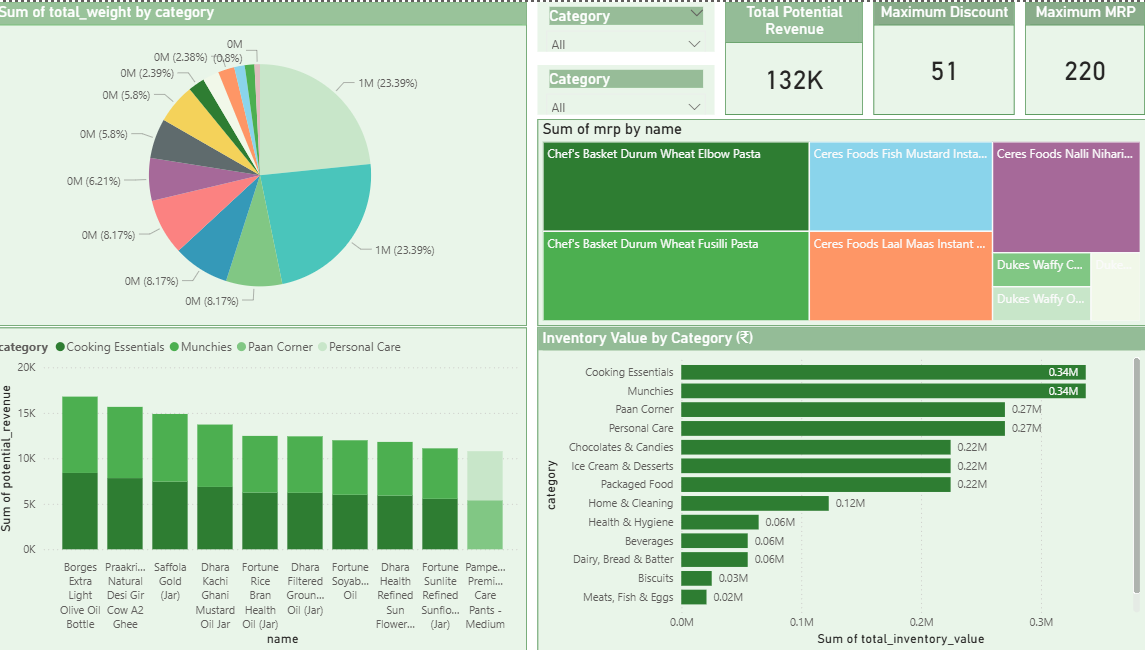

What the dashboard file says about the page in this screenshot:
{"tool":"powerbi","page":{"name":"Page 1","canvas":[1280,720],"ordinal":0},"visuals":[{"type":"clusteredBarChart","title":"Inventory Value by Category (₹)","fields":{"Y":["Sum(category_inventory_value.total_inventory_value)"],"Category":["category_inventory_value.category"]},"box":[604.6,361.1,675.8,359.5],"z":0},{"type":"treemap","fields":{"Group":["top10_discounts.name"],"Values":["Sum(top10_discounts.mrp)"]},"box":[604.6,129.2,675.8,230.3],"z":1000},{"type":"columnChart","fields":{"Category":["top20_potential_revenue_skus.name"],"Y":["Sum(top20_potential_revenue_skus.potential_revenue)"],"Series":["top20_potential_revenue_skus.category"]},"box":[0,361.1,593,359.5],"z":2000},{"type":"pieChart","fields":{"Y":["Sum(total_weight_by_category.total_weight)"],"Category":["total_weight_by_category.category"]},"box":[0,0,593.3,360],"z":3000},{"type":"card","title":"Total Potential Revenue","fields":{"Values":["category_inventory_value.Total Potential Revenue"]},"box":[813.3,0,153.3,125],"z":5000},{"type":"card","title":"Maximum Discount","fields":{"Values":["category_inventory_value.Maximum Discount"]},"box":[978.3,0,156.7,125],"z":6000},{"type":"card","title":"Maximum MRP","fields":{"Values":["category_inventory_value.Maximum MRP"]},"box":[1146.7,0,133.3,125],"z":7000},{"type":"slicer","fields":{"Values":["category_inventory_value.category"]},"box":[605,0,196.7,55],"z":7001},{"type":"slicer","fields":{"Values":["top20_potential_revenue_skus.name"]},"box":[605,70,196.7,55],"z":7002}]}

Visuals, with their boxes in screenshot pixels (x1, y1, x2, y2), scaled from the page's 1280x720 canvas onto the 1145x650 screenshot:
"Inventory Value by Category (₹)" clusteredBarChart: <region>541, 326, 1144, 649</region>
treemap - top10_discounts.name x Sum(top10_discounts.mrp): <region>541, 117, 1144, 325</region>
columnChart - top20_potential_revenue_skus.name x Sum(top20_potential_revenue_skus.potential_revenue): <region>0, 326, 530, 649</region>
pieChart - Sum(total_weight_by_category.total_weight) x total_weight_by_category.category: <region>0, 0, 531, 325</region>
"Total Potential Revenue" card: <region>728, 0, 865, 113</region>
"Maximum Discount" card: <region>875, 0, 1015, 113</region>
"Maximum MRP" card: <region>1026, 0, 1144, 113</region>
slicer - category_inventory_value.category: <region>541, 0, 717, 50</region>
slicer - top20_potential_revenue_skus.name: <region>541, 63, 717, 113</region>
